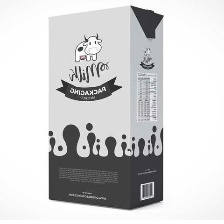carton: (43, 2, 169, 211)
